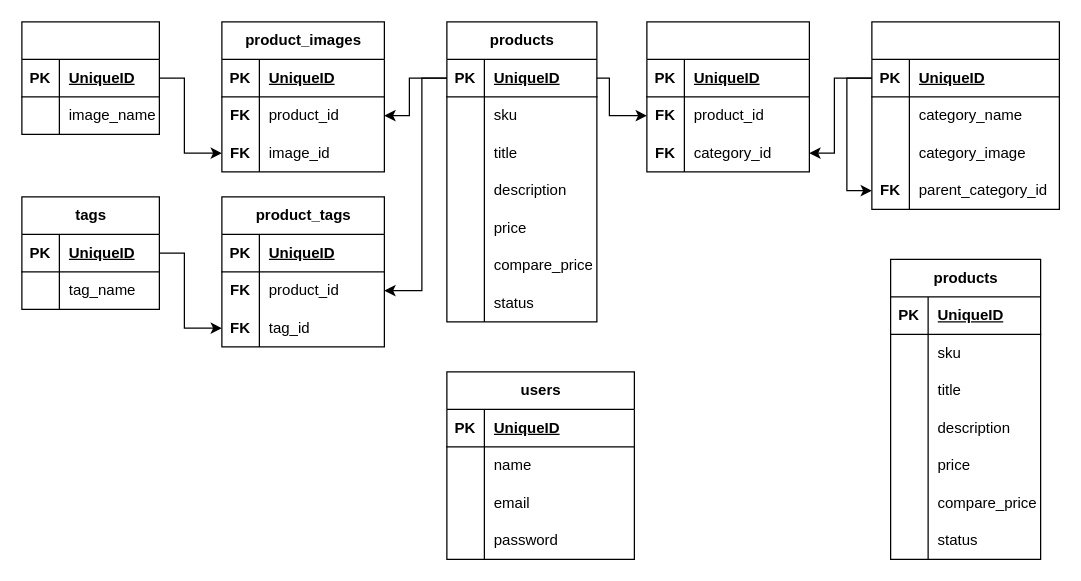
Image size: 1081x581. Some labels were removed from this diagram. The shapes that lost their labels are listed below. From the top down, each one's box as (x1, y1, x2, y2) in pixels, then its label:
(21, 21, 159, 134): images
(646, 21, 809, 172): product_categories
(871, 21, 1059, 209): categories
